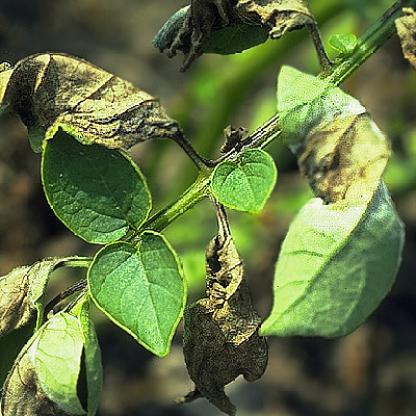potato leaf late blight: (270, 64, 415, 361), (171, 203, 277, 415), (1, 48, 180, 156), (145, 1, 316, 58)
